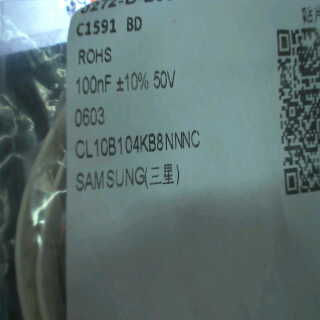100nF: (74, 70, 115, 102)
